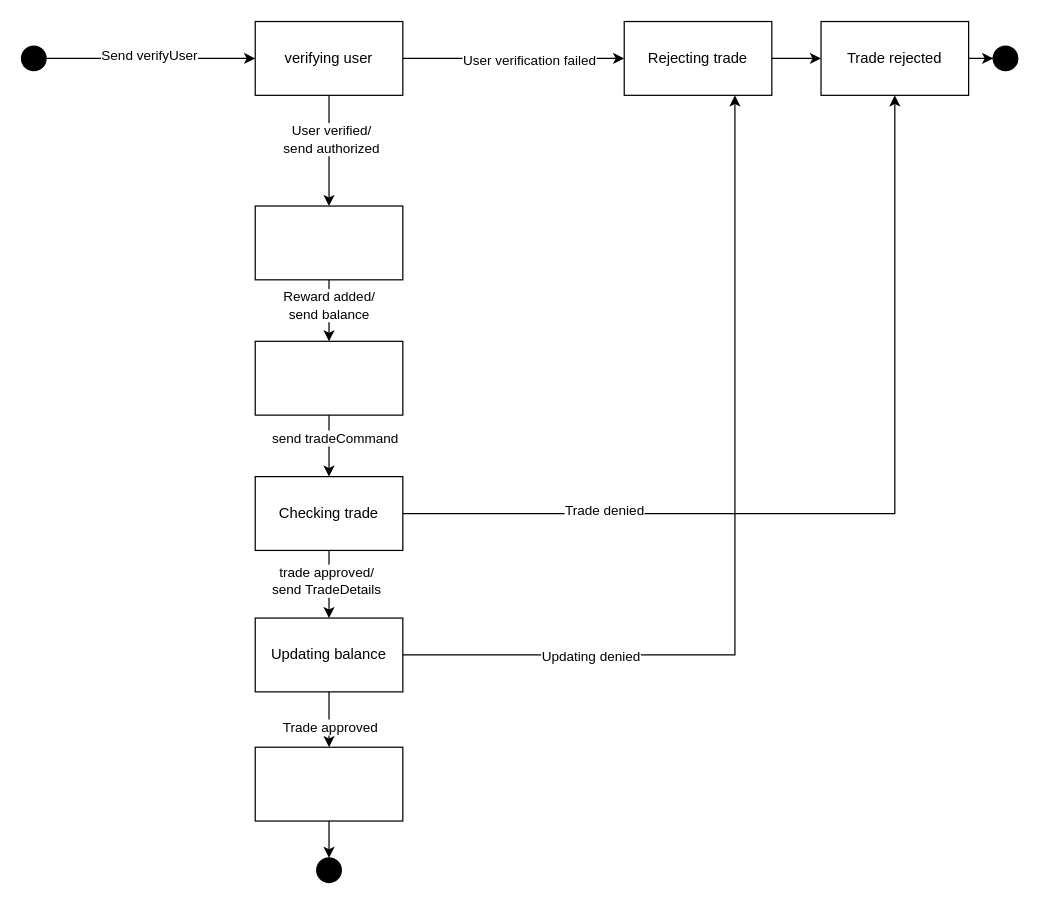
Some shapes in this 1039 by 904 pixel diagram are drawn without their labels. The centre of each missing label's shape, as x and y in pixels:
"Add daily reward" goes at (x=328, y=242).
"Initiate trade" goes at (x=328, y=377).
"Trade ok" goes at (x=328, y=783).
